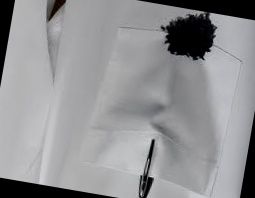ink: (163, 13, 217, 60)
